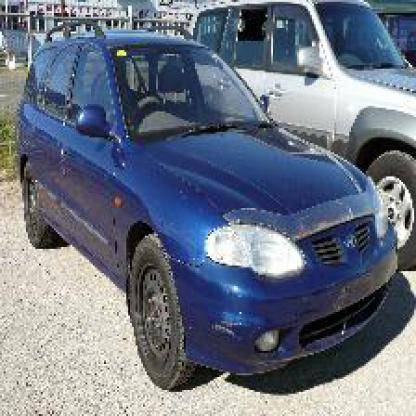not_emergency: (11, 6, 411, 390)
